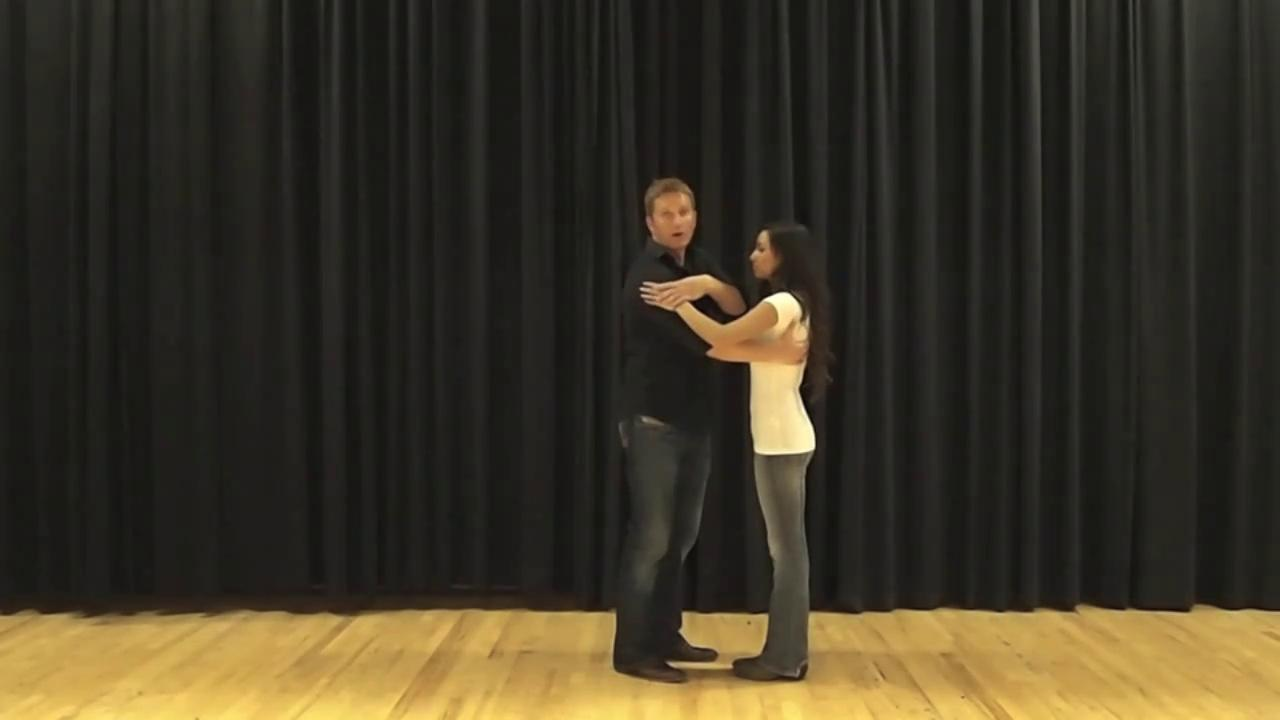victim: (602, 172, 738, 688), (698, 219, 834, 684)
